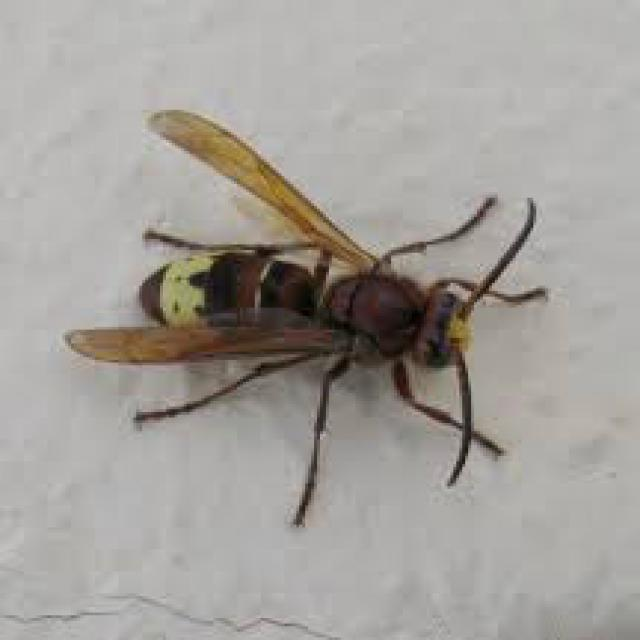Vespa Orientalis: (46, 85, 572, 549)
